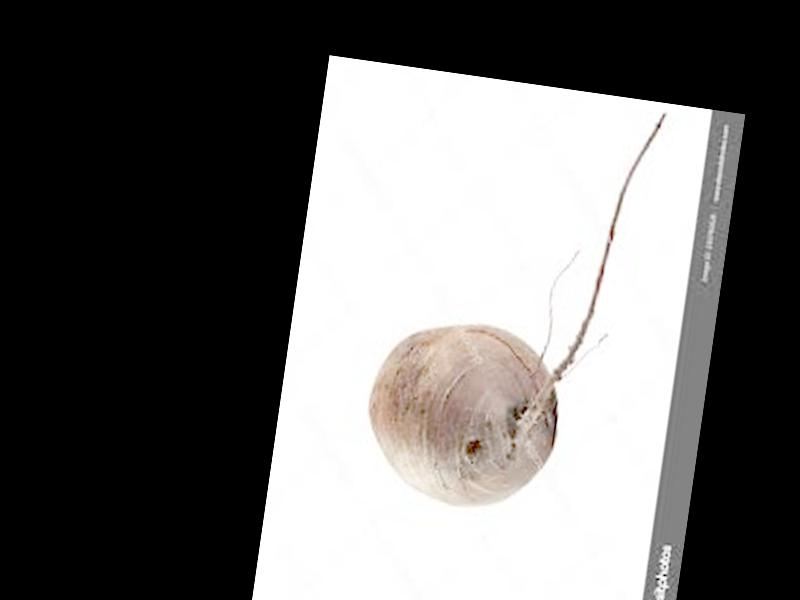Beet: (359, 76, 667, 525)
